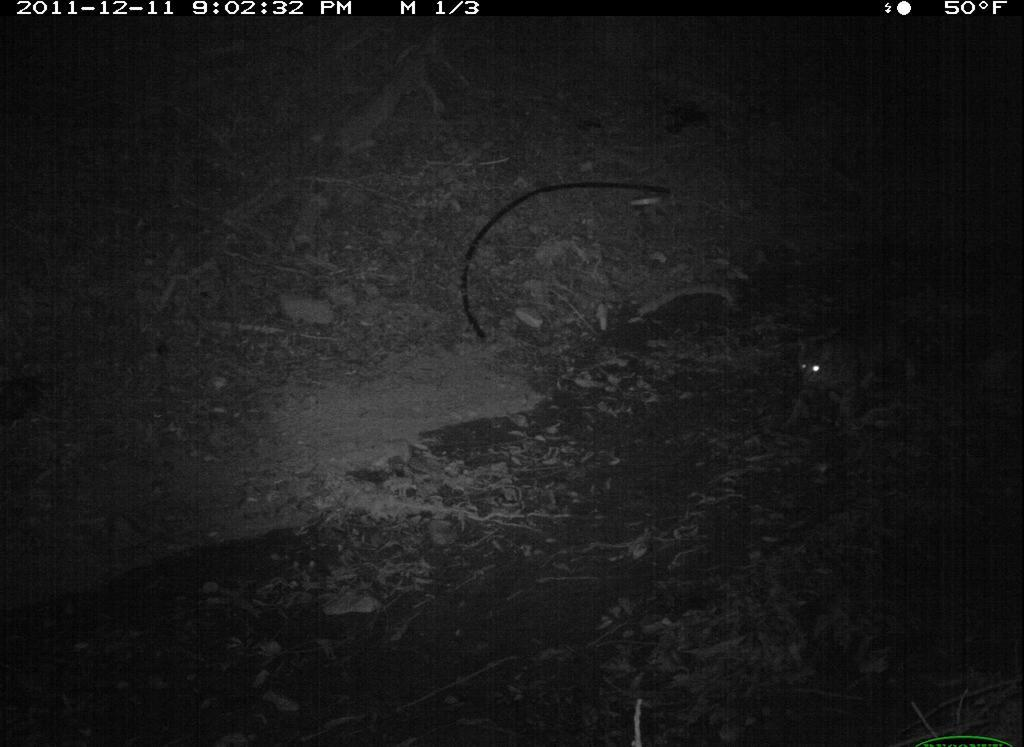cat: (772, 312, 925, 424)
